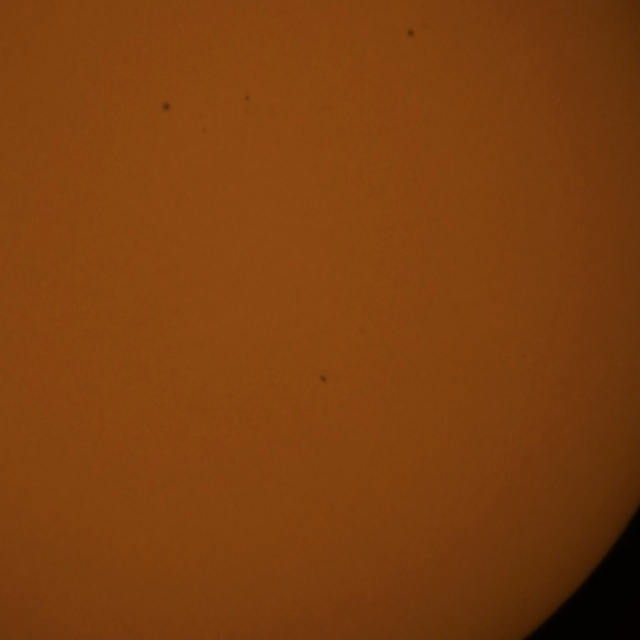sunspot: (161, 100, 172, 114), (405, 27, 416, 39), (318, 374, 328, 385), (243, 92, 252, 104)
